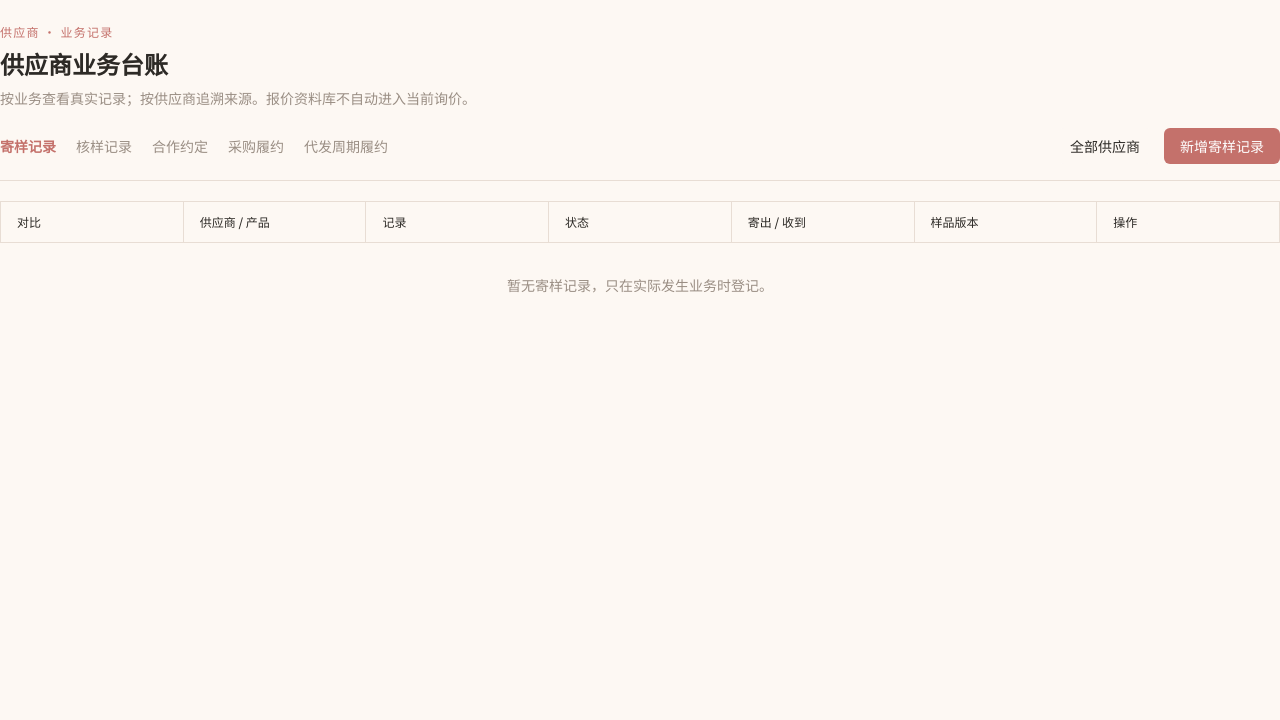
Test: routes new purchase fulfillment to procurement and keeps legacy manual purchase records viewable
Click the button "采购履约". click: coordinates (256, 146)
box: [228, 136, 284, 156]
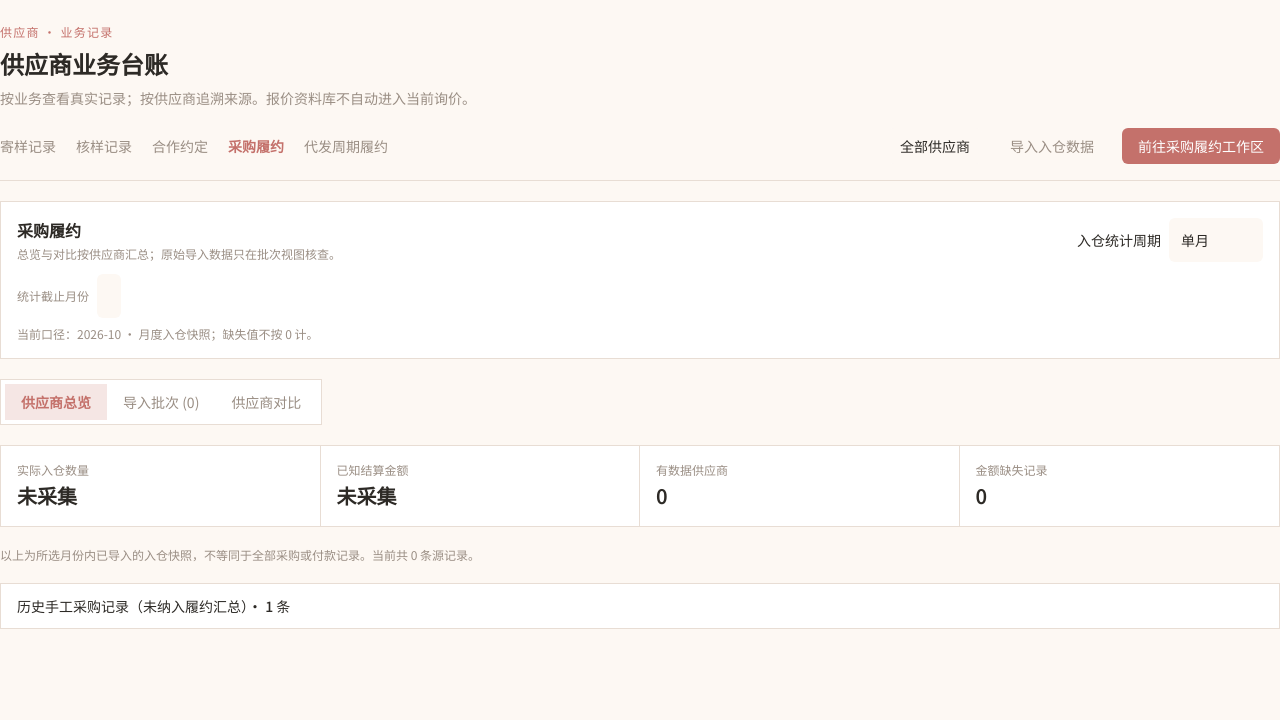
Click the heading "历史手工采购记录（未纳入履约汇总）· 1 条". click: coordinates (154, 606)
box: [17, 596, 290, 616]
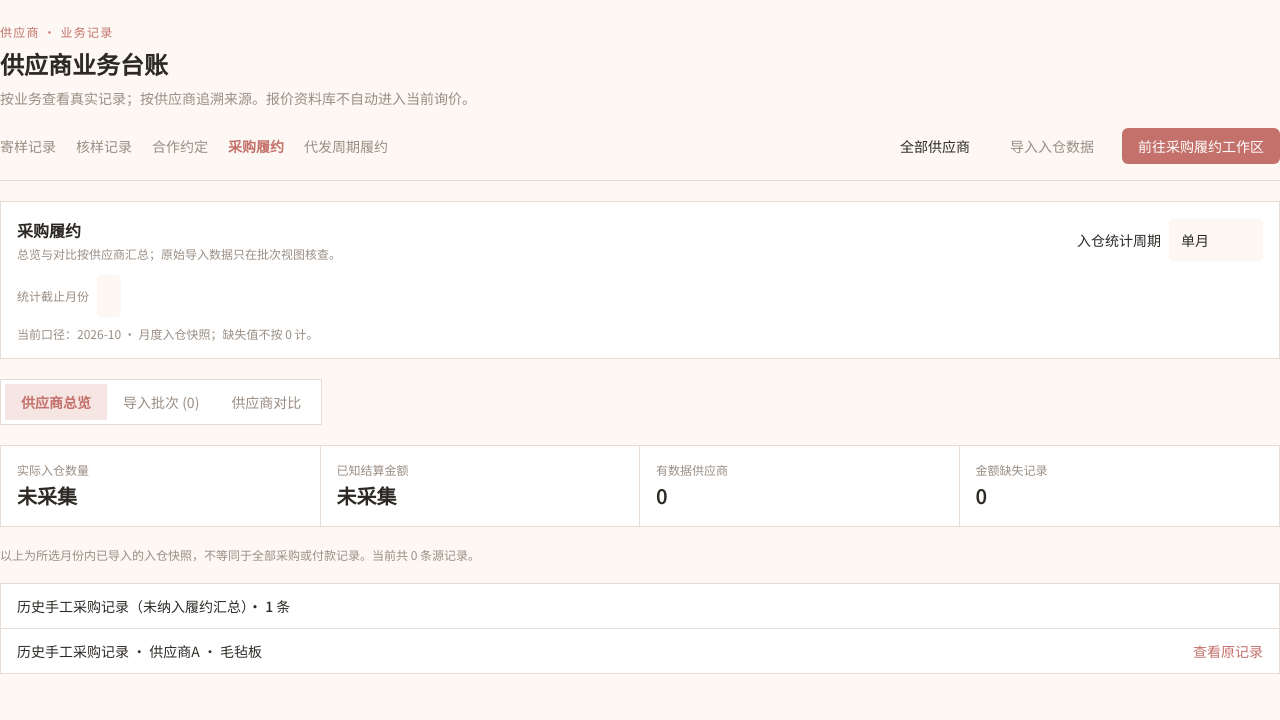
Click the button with aria-label "查看历史记录：历史手工采购记录". click: coordinates (1228, 651)
box: [1193, 641, 1263, 661]
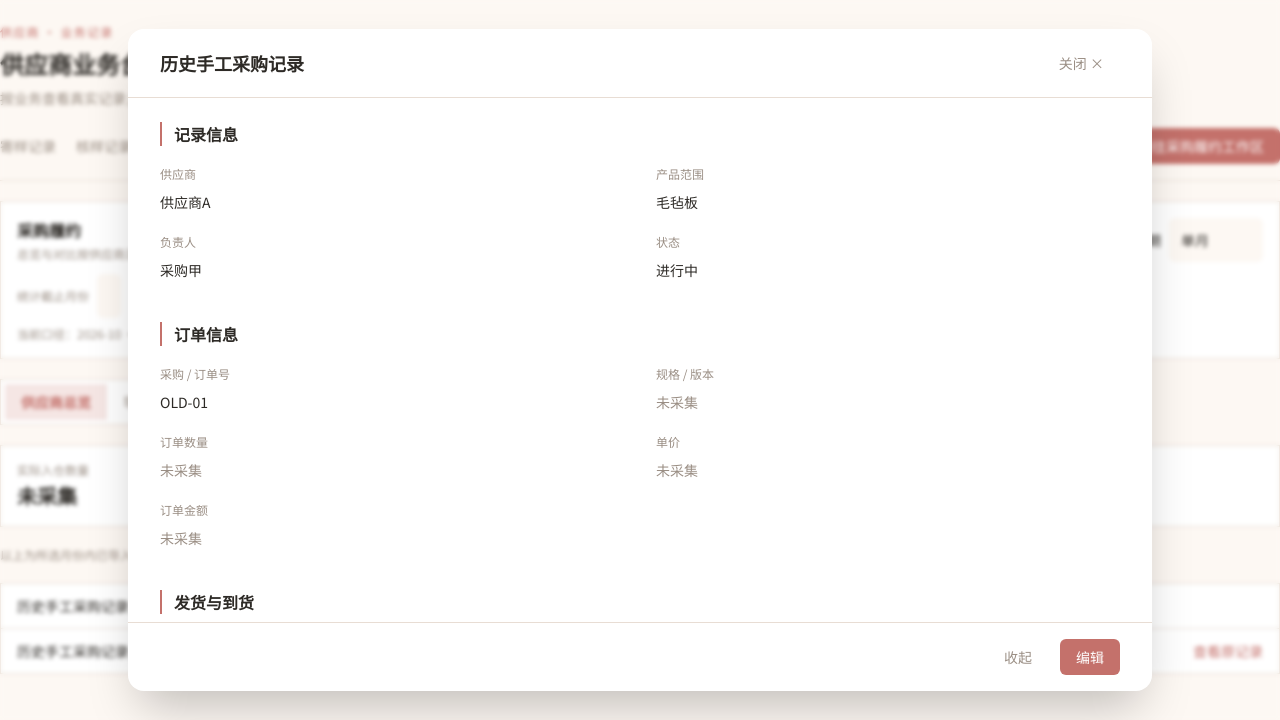
Expected: the text "OLD-01" is shown, [160, 392, 208, 412]
